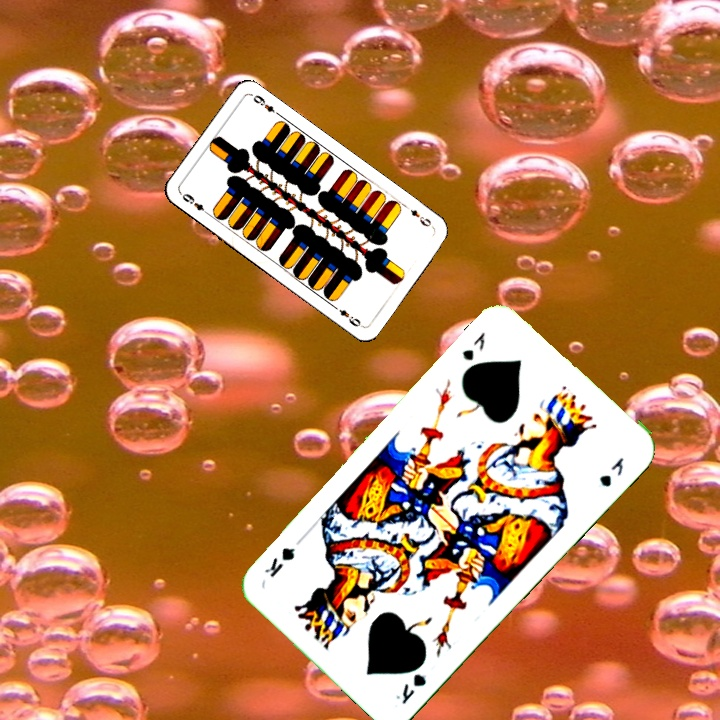E9: (401, 201, 436, 230), (177, 189, 212, 217)
GK: (391, 669, 429, 707), (457, 327, 488, 364)
